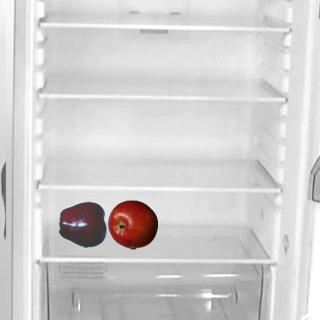Apple Braeburn: (107, 199, 157, 249)
Apple Red Delicious: (58, 199, 108, 249)
